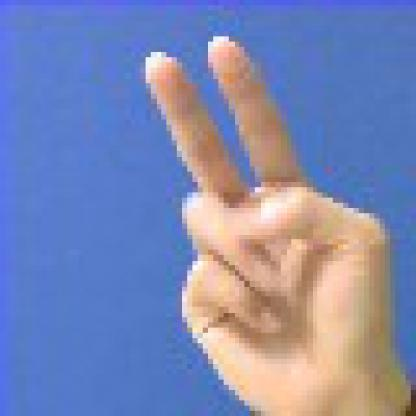two: (135, 15, 406, 410)
